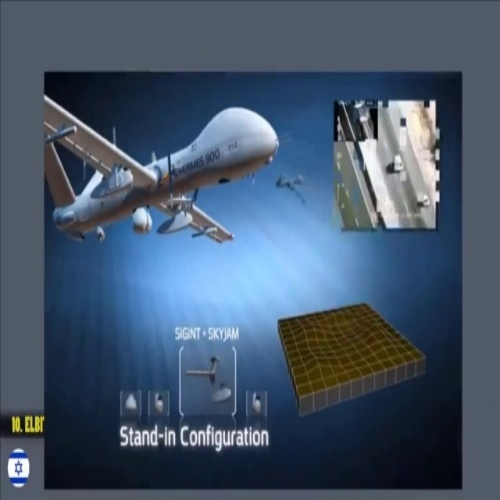uav777: (44, 86, 280, 249), (271, 166, 310, 205)
